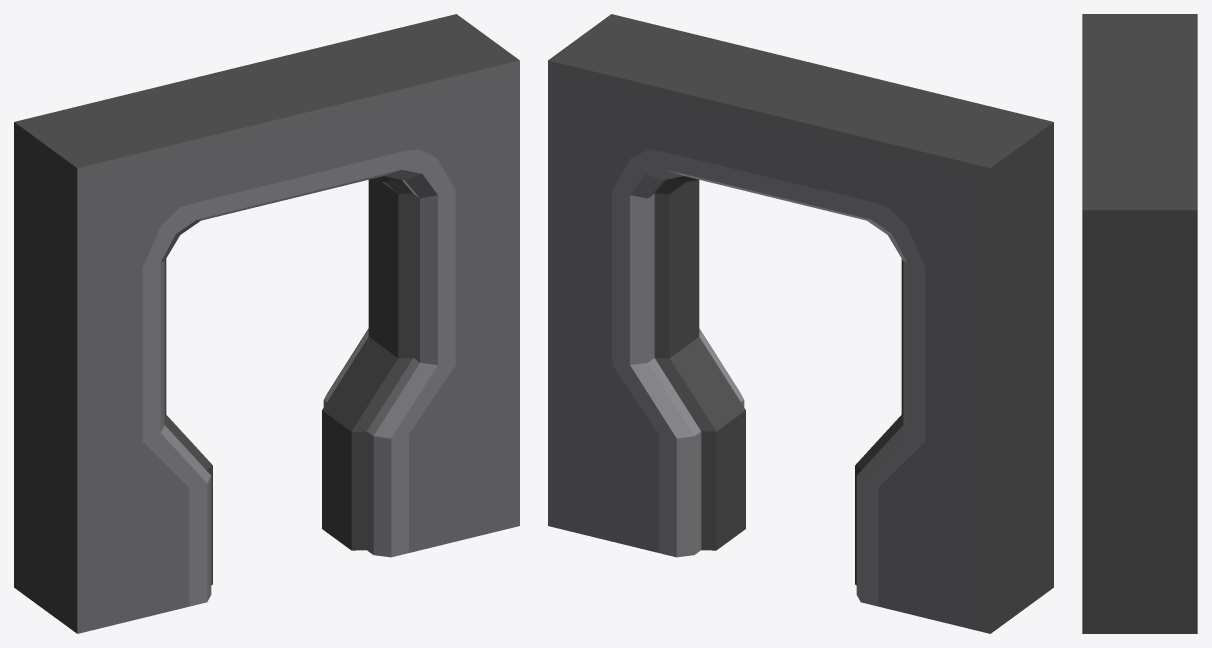
File: SM_Bld_Corridor_Single_Arch_01.fbx
The picture shows the model from 3 angles, left to right: view 1: azimuth 30°, elevation 25°; view 2: azimuth 150°, elevation 25°; view 3: azimuth 270°, elevation 25°; orthographic projection. The views are drawn at different scales.
Visible parts, largest first — view 1: SM_Bld_Corridor_Single_Arch_01_LOD0; view 2: SM_Bld_Corridor_Single_Arch_01_LOD0; view 3: SM_Bld_Corridor_Single_Arch_01_LOD0.
Boxes of the visible parts, x1,y1,x2,y2 form: SM_Bld_Corridor_Single_Arch_01_LOD0: (14,14,519,633); SM_Bld_Corridor_Single_Arch_01_LOD0: (548,14,1053,633); SM_Bld_Corridor_Single_Arch_01_LOD0: (1082,14,1197,633).
Bounding box in the file's own units: 122 × 491 × 494.
1 material, 1 textured.
